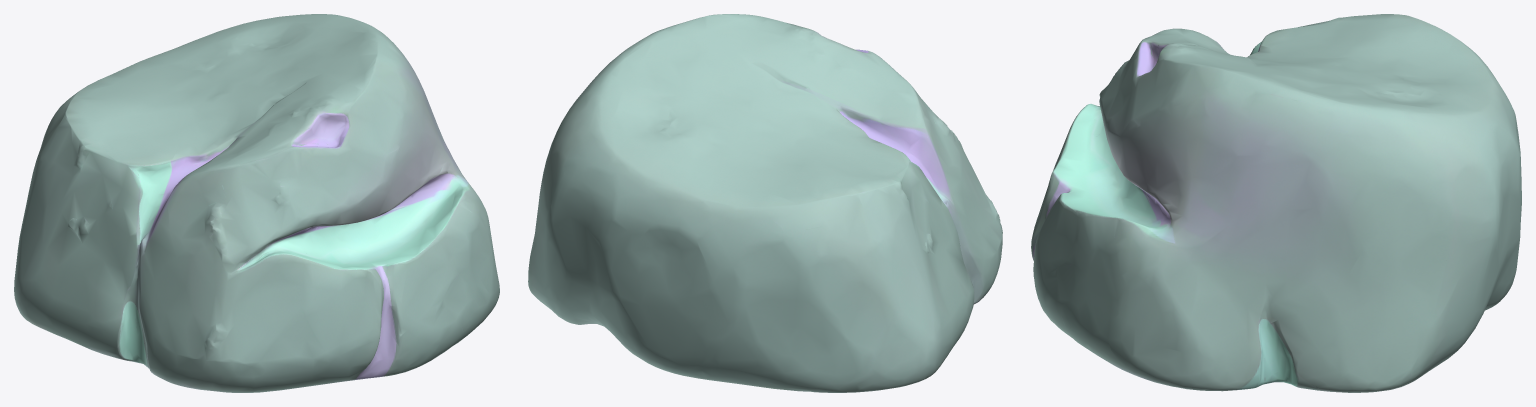
File: static.glb
3 renders of one model, left to right at view 1: azimuth 30°, elevation 25°; view 2: azimuth 150°, elevation 25°; view 3: azimuth 270°, elevation 25°, orthographic. The views are drawn at different scales.
Parts seen in each view (by area): view 1: Mesh_0; view 2: Mesh_0; view 3: Mesh_0.
Boxes of the visible parts, x1,y1,x2,y2 form: Mesh_0: [14, 14, 499, 392]; Mesh_0: [528, 14, 1002, 392]; Mesh_0: [1031, 14, 1521, 392].
Size of the model in its own units: 1.9 by 1.13 by 1.84.
1 material, 1 textured.
